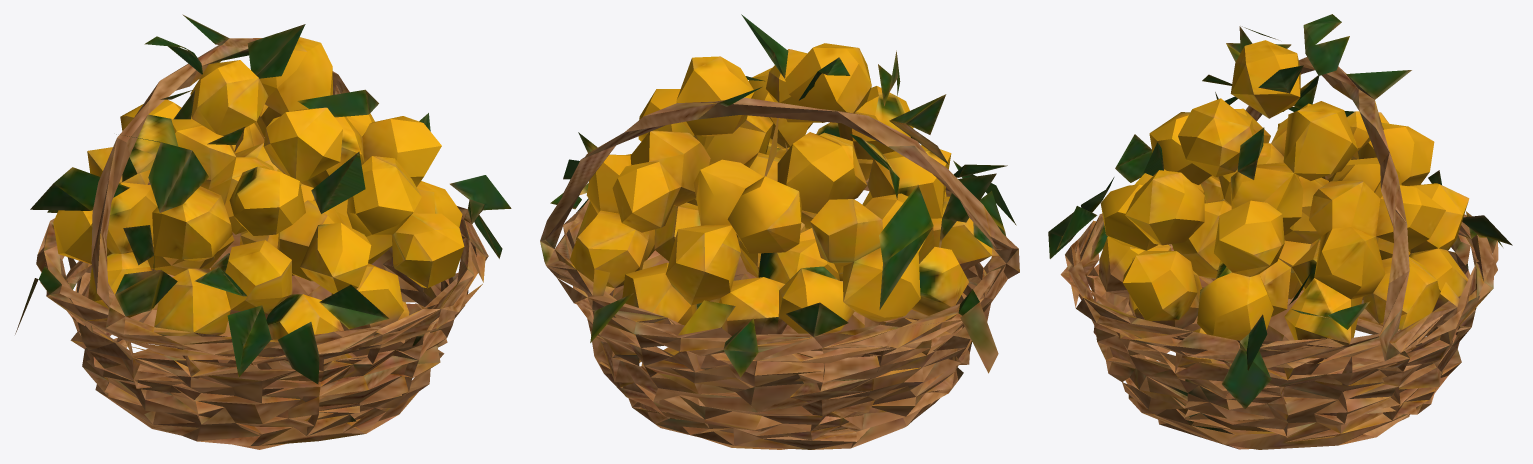
Rendered from citron-basket.glb.
3 renders of one model, left to right at view 1: azimuth 30°, elevation 25°; view 2: azimuth 150°, elevation 25°; view 3: azimuth 270°, elevation 25°, orthographic. The views are drawn at different scales.
Visible parts, largest first — view 1: citron-basket; view 2: citron-basket; view 3: citron-basket.
Part boxes in pixels (<box>): citron-basket: <box>15,14,511,449</box>; citron-basket: <box>540,14,1019,449</box>; citron-basket: <box>1048,14,1512,449</box>.
Bounding box in the file's own units: 0.45 × 0.3328 × 0.413.
1 material, 1 textured.
